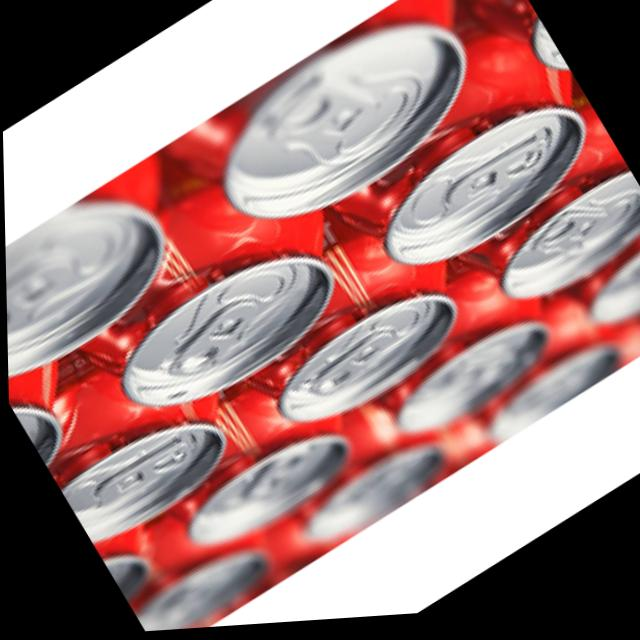aluminum_soda_cans: (188, 0, 486, 247), (79, 192, 352, 432), (344, 65, 617, 299), (251, 261, 483, 456)
